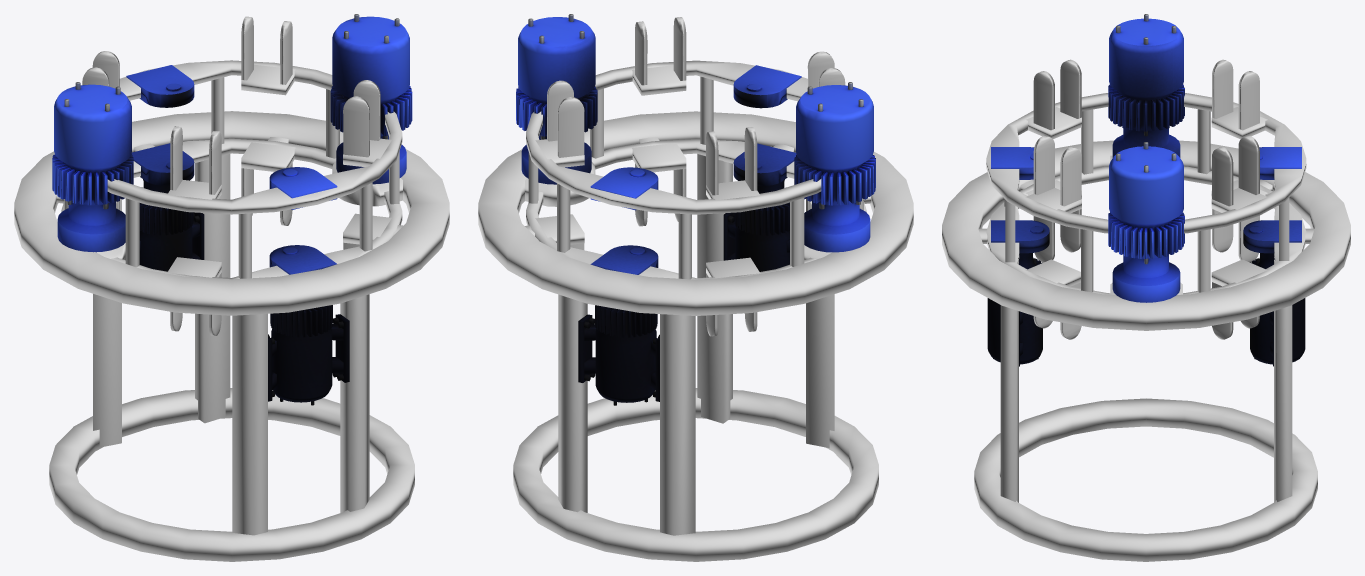
Rendered from toppletower_transport.fbx.
The picture shows the model from 3 angles, left to right: view 1: azimuth 30°, elevation 25°; view 2: azimuth 150°, elevation 25°; view 3: azimuth 270°, elevation 25°; orthographic projection. The views are drawn at different scales.
Parts seen in each view (by area): view 1: Mesh; view 2: Mesh; view 3: Mesh.
Boxes of the visible parts, <box> form: Mesh: <box>14,14,449,561</box>; Mesh: <box>478,14,913,561</box>; Mesh: <box>942,14,1350,561</box>.
Bounding box in the file's own units: 214 × 230 × 214.
